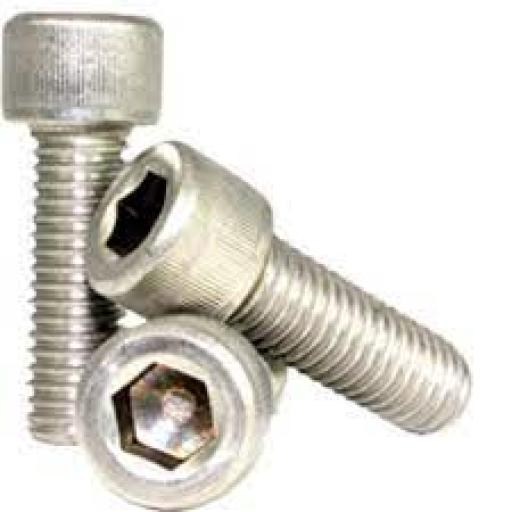Hex-Allen: (72, 311, 272, 507)
